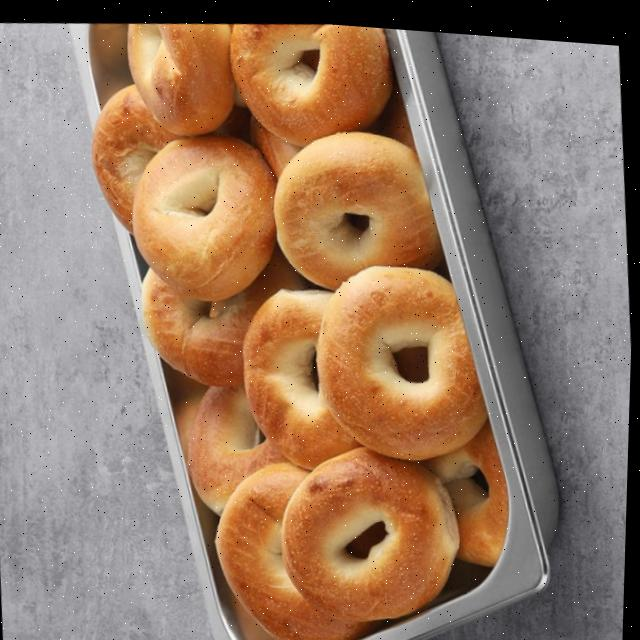Bagel: (319, 259, 489, 451), (286, 439, 462, 615), (218, 457, 377, 640), (275, 125, 442, 283), (134, 131, 275, 296), (144, 244, 305, 380), (246, 283, 361, 463), (231, 18, 392, 140), (191, 381, 288, 510), (128, 19, 233, 131)
